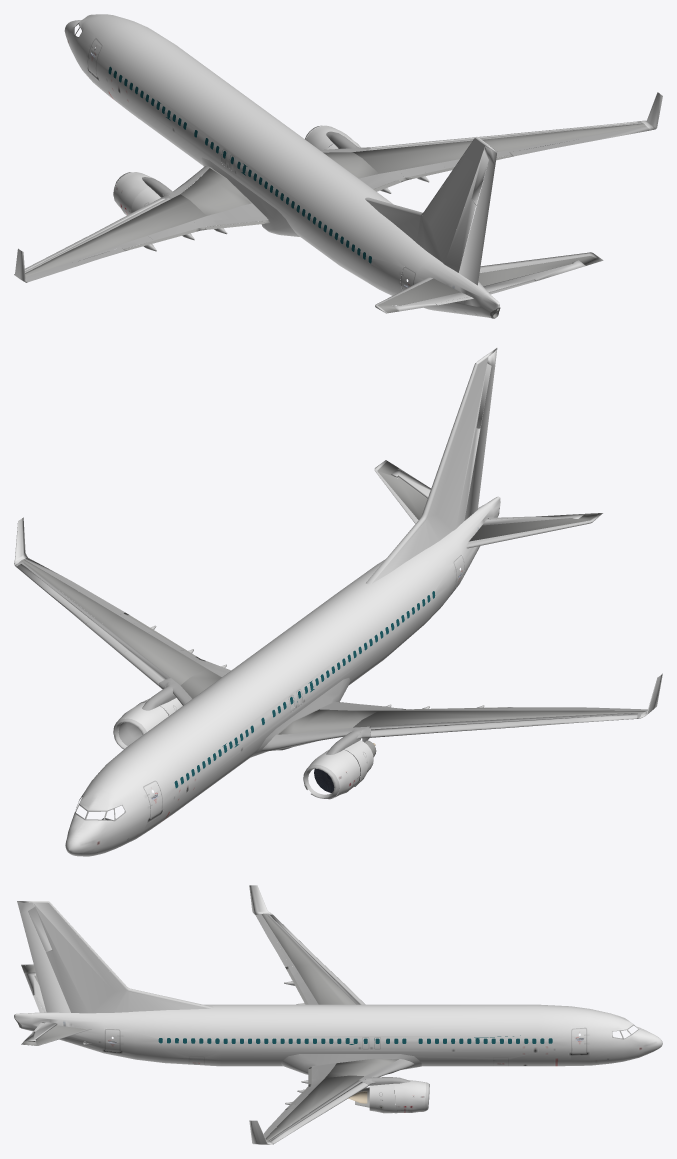
3 renders of one model, top to bottom at view 1: azimuth 30°, elevation 25°; view 2: azimuth 150°, elevation 25°; view 3: azimuth 270°, elevation 25°, orthographic. The views are drawn at different scales.
Visible parts, largest first — view 1: fuselage, apuexht, lreverserib_1, ngww, lhelevator, windowslh; view 2: fuselage, lreverserib_1, apuexht, lhelevator, ngww, windowslh; view 3: fuselage, lreverserib_1, apuexht, ngww, lhelevator, windowslh.
Part boxes in pixels (left/top/right/bottom): fuselage: left=64, top=14, right=500, bottom=318; apuexht: left=25, top=123, right=645, bottom=318; lreverserib_1: left=14, top=92, right=662, bottom=285; ngww: left=25, top=23, right=650, bottom=287; lhelevator: left=24, top=121, right=637, bottom=313; windowslh: left=108, top=66, right=371, bottom=263; fuselage: left=65, top=496, right=500, bottom=856; lreverserib_1: left=14, top=348, right=662, bottom=797; apuexht: left=21, top=461, right=645, bottom=769; lhelevator: left=16, top=363, right=637, bottom=799; ngww: left=15, top=557, right=647, bottom=821; windowslh: left=174, top=591, right=435, bottom=788; fuselage: left=14, top=1004, right=662, bottom=1066; lreverserib_1: left=17, top=885, right=425, bottom=1144; apuexht: left=14, top=913, right=398, bottom=1141; ngww: left=109, top=913, right=638, bottom=1144; lhelevator: left=21, top=901, right=429, bottom=1143; windowslh: left=158, top=1035, right=552, bottom=1044.
Size of the model in its own units: 34.85 by 12.11 by 40.62.
9 materials, 2 textured.
